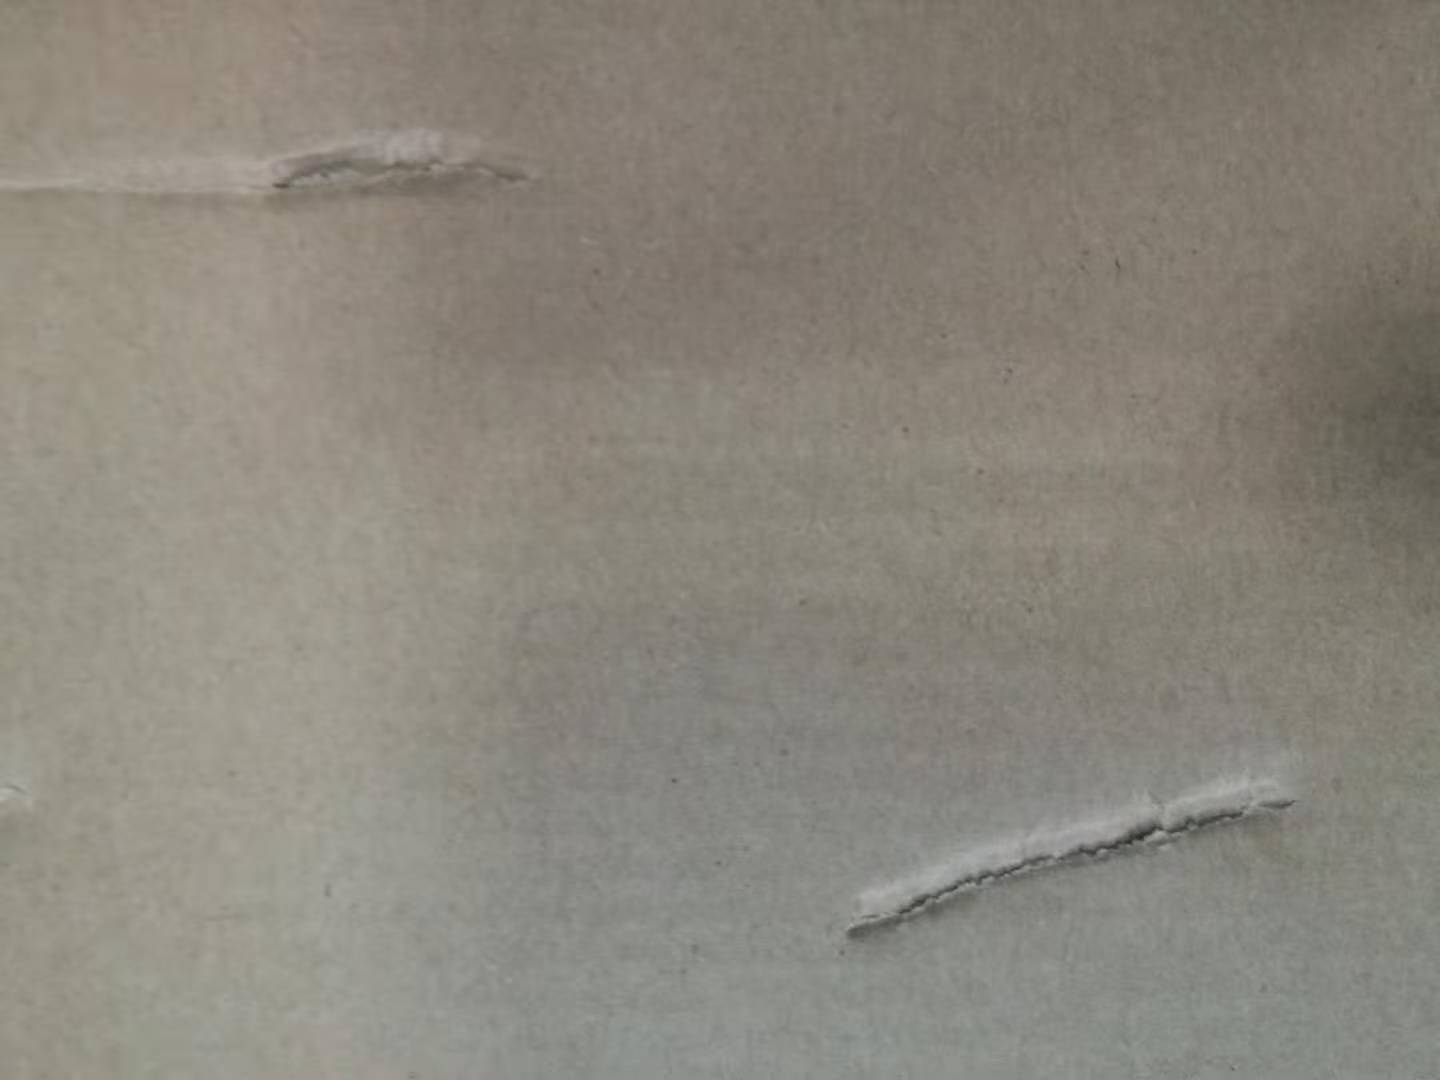defect: (827, 756, 1322, 967), (2, 93, 578, 251)
